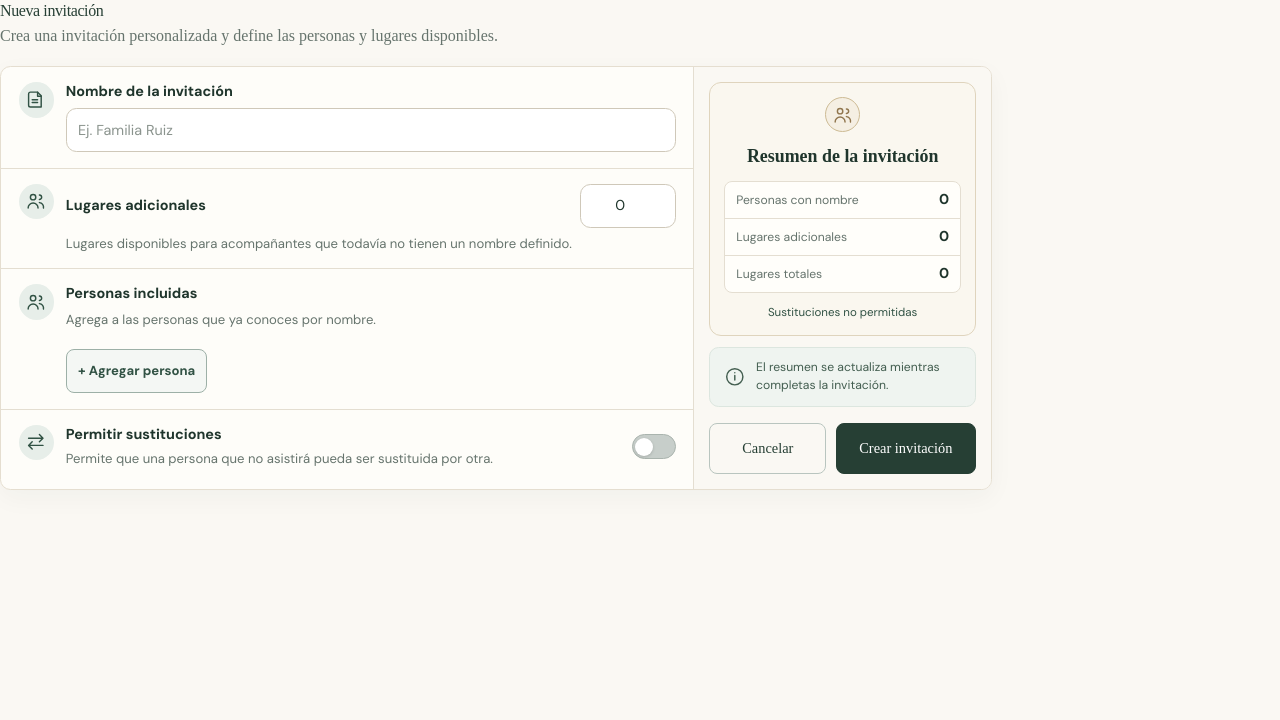
it: feedback al crear una invitación › muestra un diálogo modal con el nombre y el ID reales sin toast duplicado
The width and height of the screenshot is (1280, 720).
Type " Familia Ruiz " into the field labelled "Nombre de la invitación" at (371, 130), box [66,108,676,152]
Click the button "+ Agregar persona" at (137, 371), box [66,349,208,393]
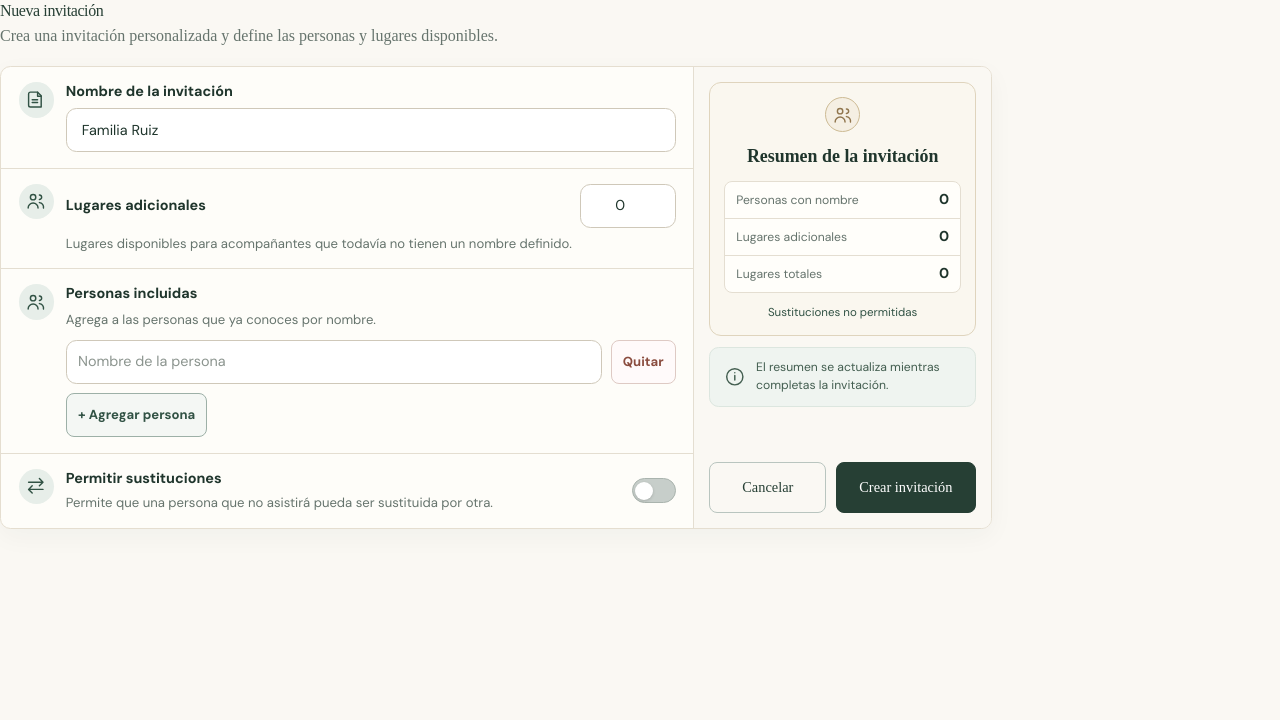
Type " Ana Ruiz " into the field named "Nombre de la persona 1" at (334, 362), box [66,340,602,384]
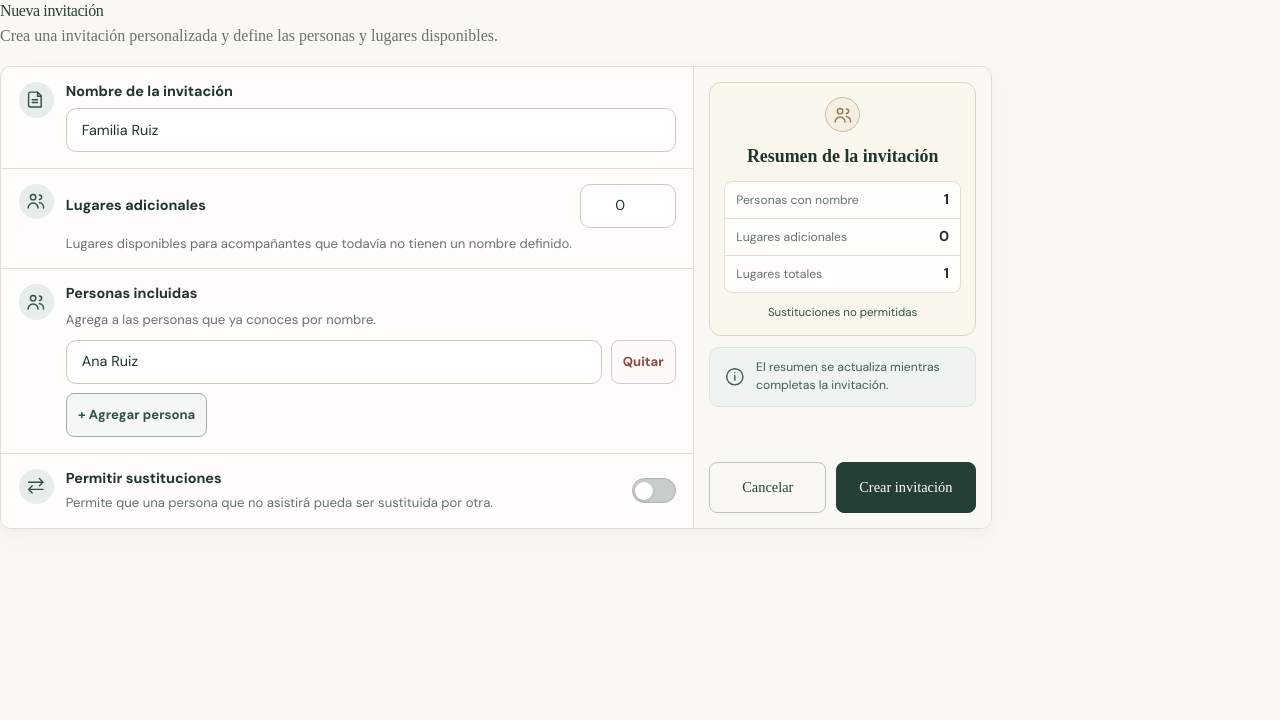
Replace the text in the number field labelled "Lugares adicionales" with "2" at (628, 206), box [580,184,676,228]
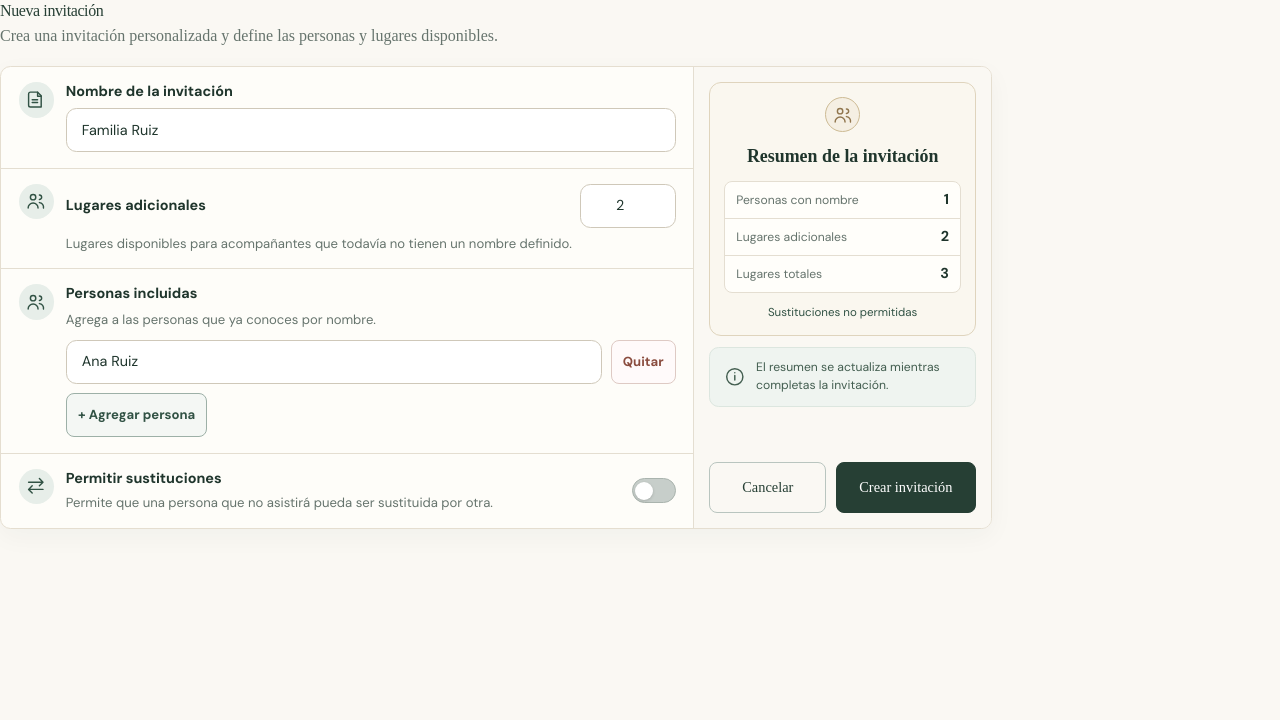
Click the checkbox named "Permitir sustituciones" at (654, 491), box [632,478,676,503]
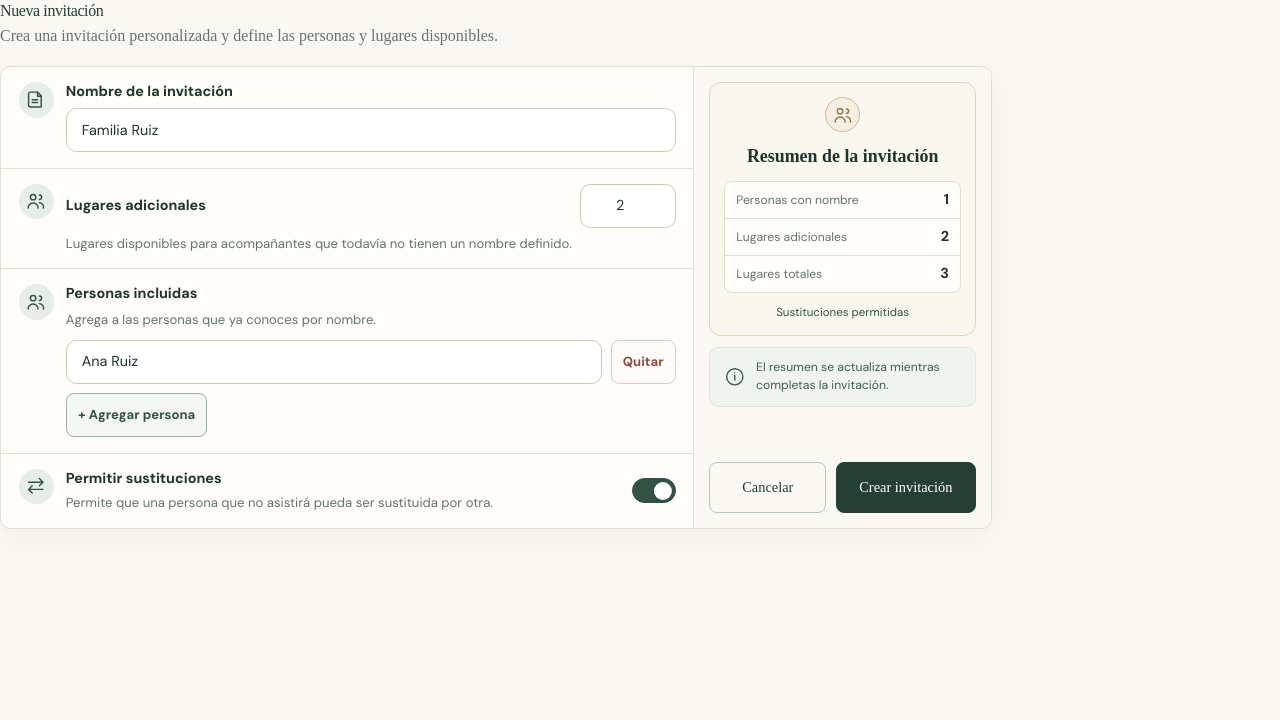
Click the button "Crear invitación" at (906, 488), box [836,462,976,513]
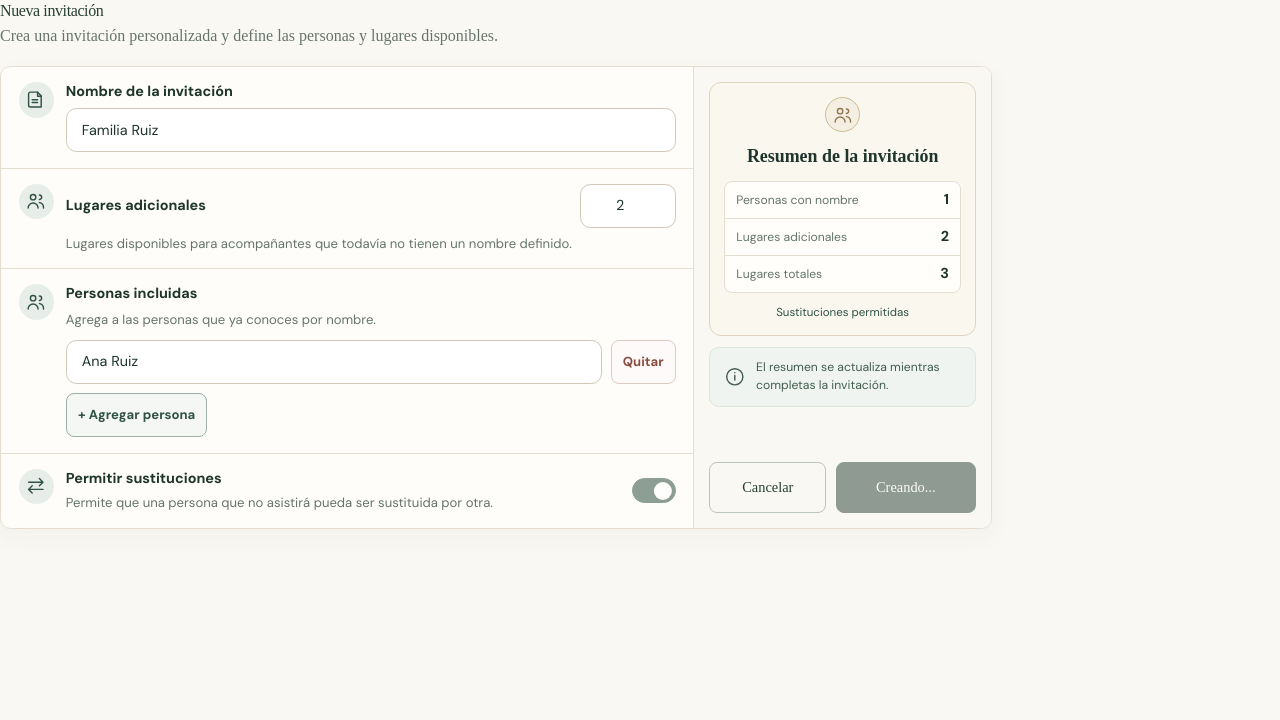
Check: the button "Creando..." is disabled, box [836,462,976,513]
Check: the checkbox named "Permitir sustituciones" is disabled, box [632,478,676,503]
Submit the form named "Creando...", box [0,66,992,529]
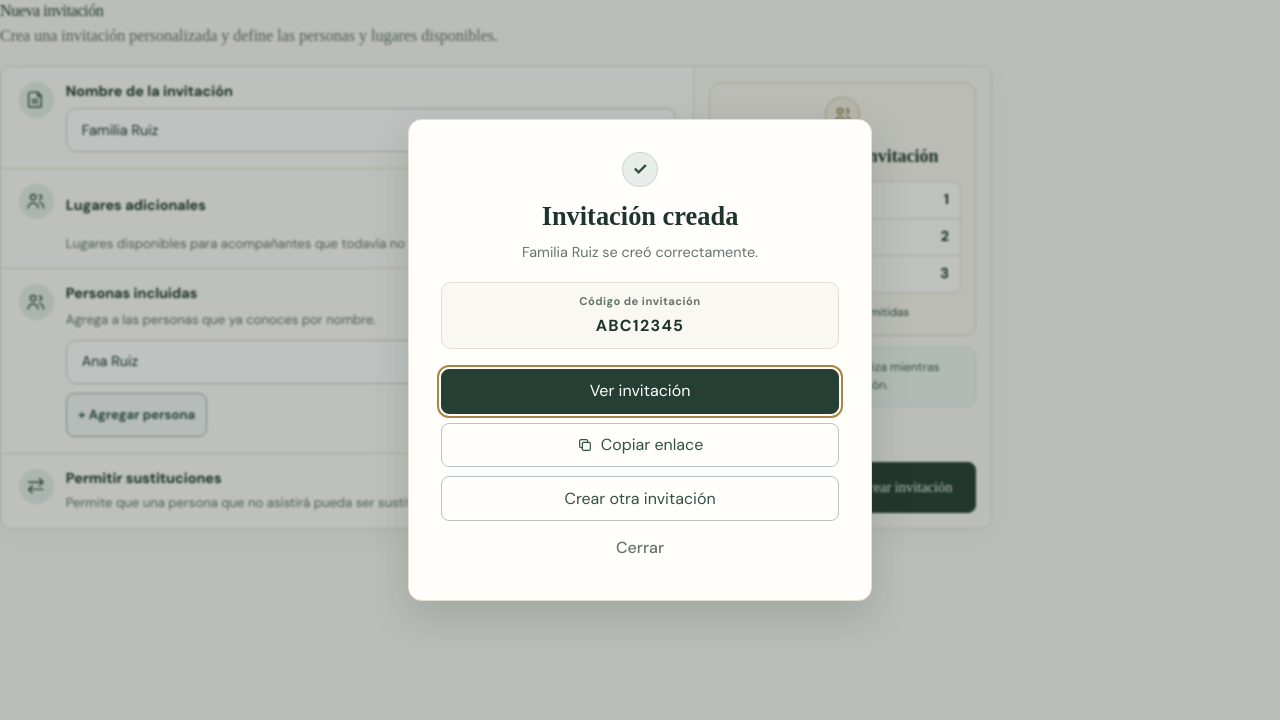
Check: the heading "Nueva invitación" is shown, box [0,2,103,19]
Check: the text "Familia Ruiz se creó correctamente." is shown, box [522,242,758,260]
Check: the text "ABC12345" is shown, box [596,315,684,336]
